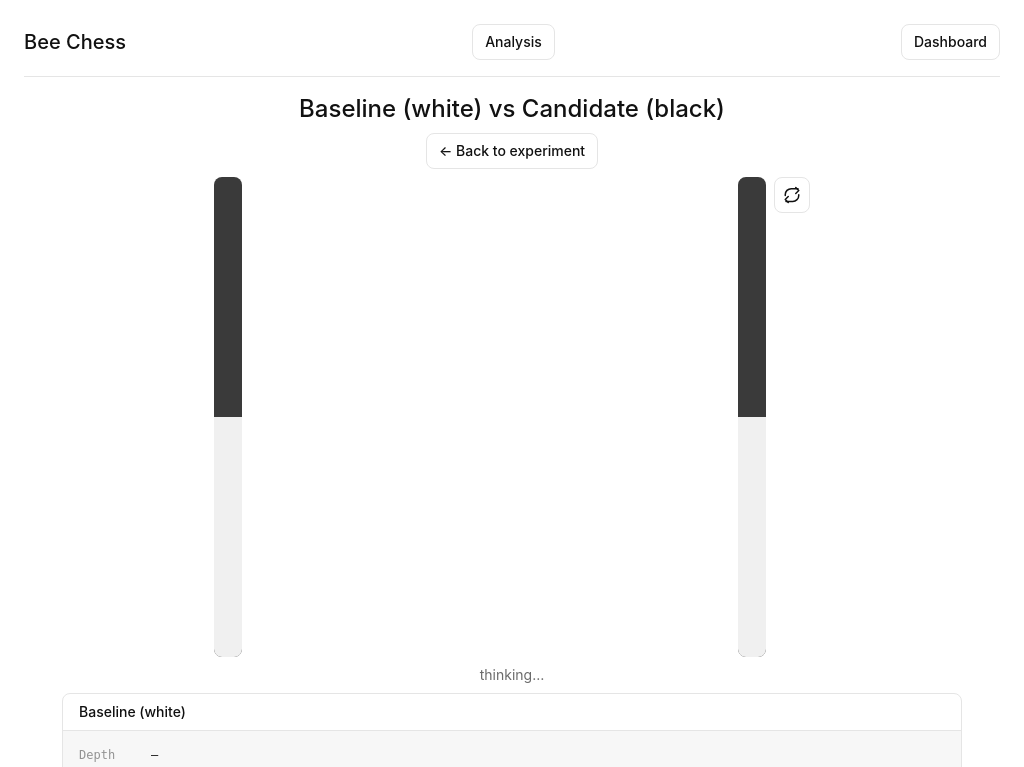
Test: App navigation history › a game created by an experiment offers a way back to it, and clicking it navigates there
Click the button "← Back to experiment". click: (512, 151)
box: [426,133,598,169]
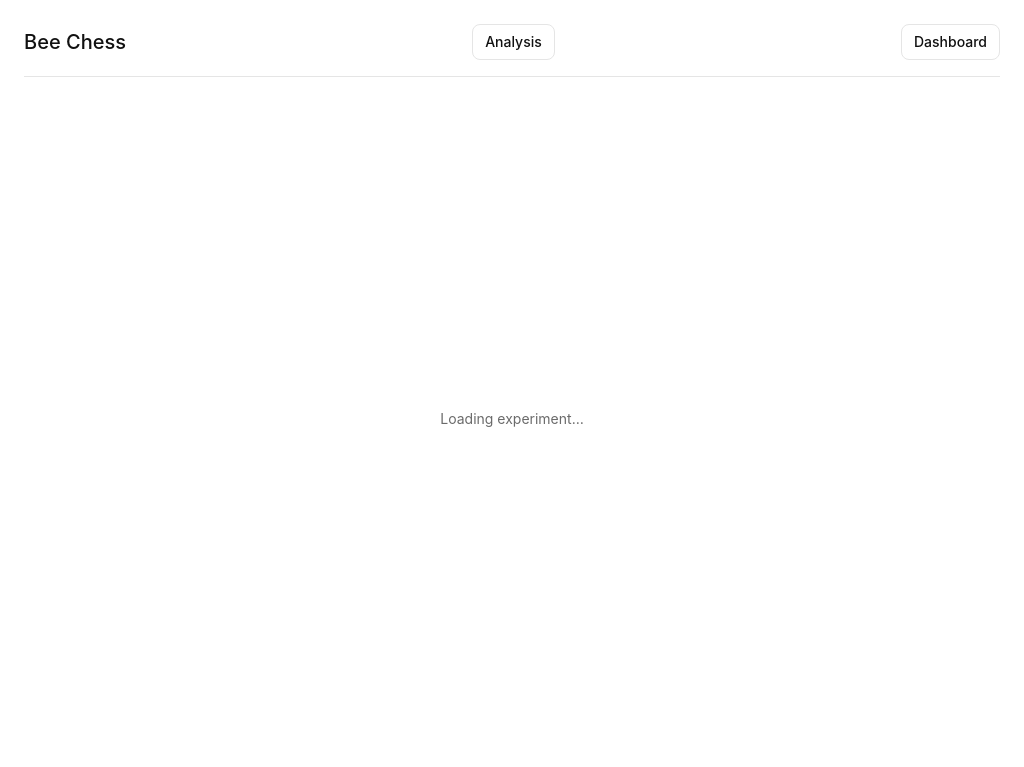
Expected: the text "Loading experiment…" is shown, [440,408,584,428]
